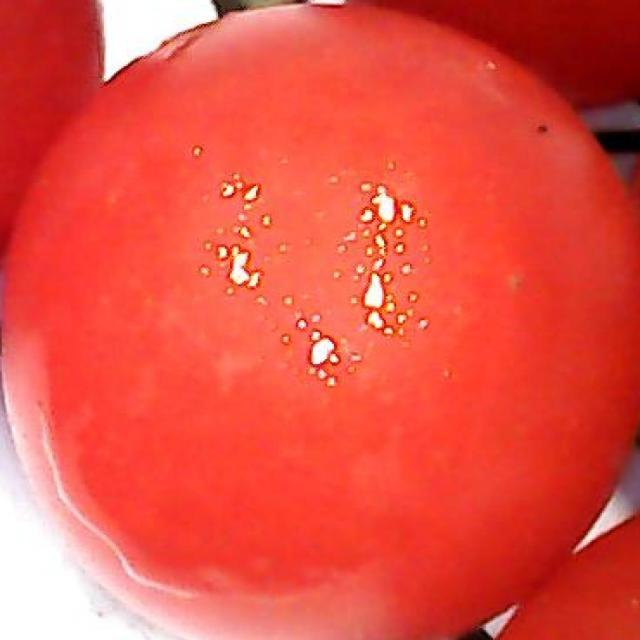Healthy Fruit: (2, 11, 427, 427)
